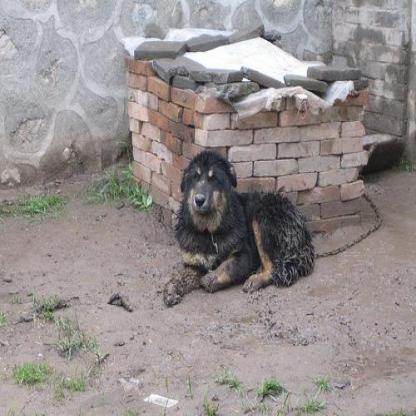Tibetan_mastiff: (157, 146, 317, 310)
